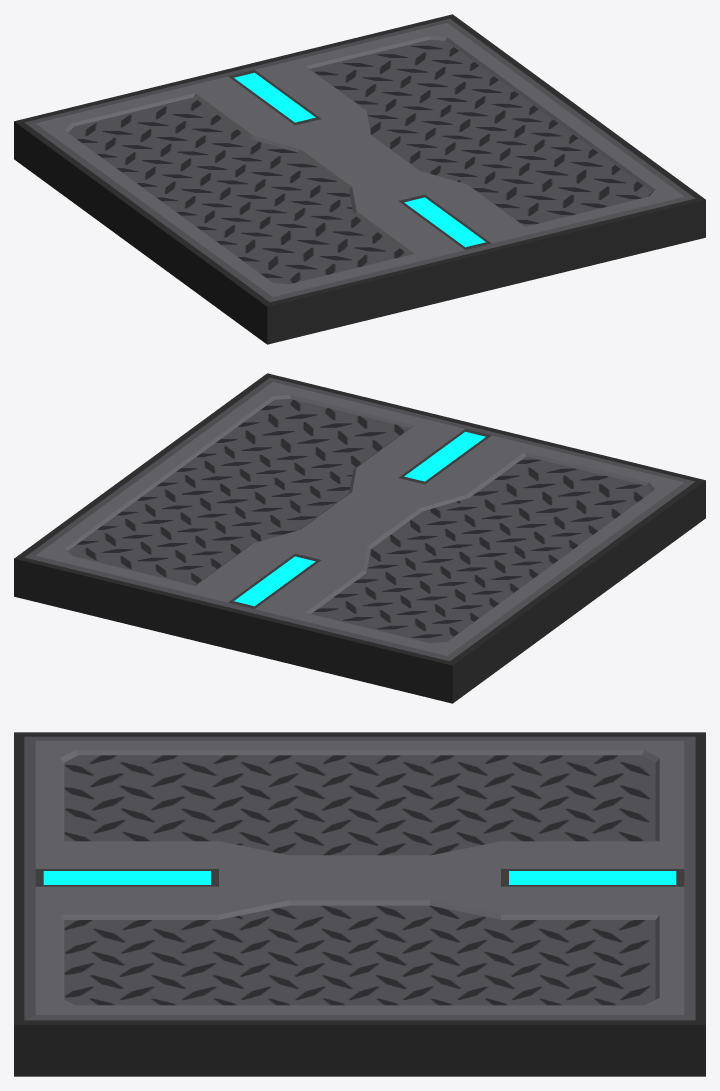
File: SM_Bld_Floor_Small_05.fbx
The picture shows the model from 3 angles, top to bottom: view 1: azimuth 30°, elevation 25°; view 2: azimuth 150°, elevation 25°; view 3: azimuth 270°, elevation 25°; orthographic projection. The views are drawn at different scales.
Visible parts, largest first — view 1: SM_Bld_Floor_Small_05_LOD0; view 2: SM_Bld_Floor_Small_05_LOD0; view 3: SM_Bld_Floor_Small_05_LOD0.
Part boxes in pixels (left/top/right/bottom): SM_Bld_Floor_Small_05_LOD0: left=14, top=14, right=705, bottom=344; SM_Bld_Floor_Small_05_LOD0: left=14, top=373, right=705, bottom=703; SM_Bld_Floor_Small_05_LOD0: left=14, top=732, right=705, bottom=1076.
Size of the model in its own units: 250 by 250 by 20.95.
Materials: 1 (1 with a texture image).
